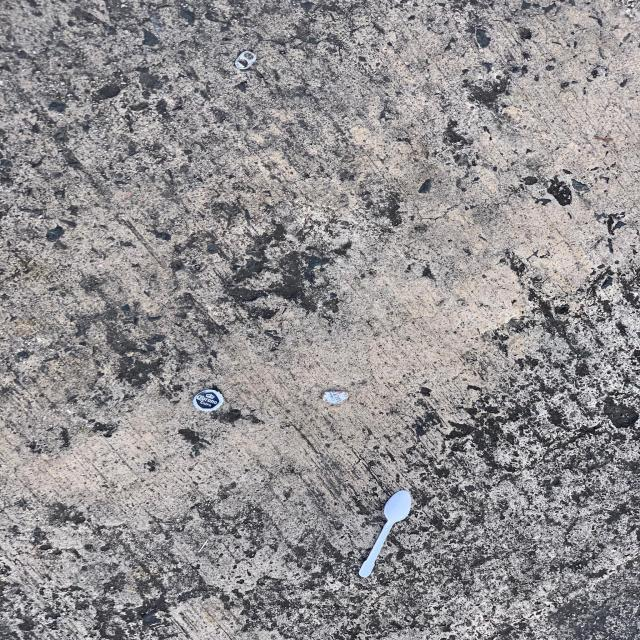litter: (358, 491, 411, 577), (192, 390, 224, 411), (234, 51, 256, 69), (324, 391, 350, 404)
